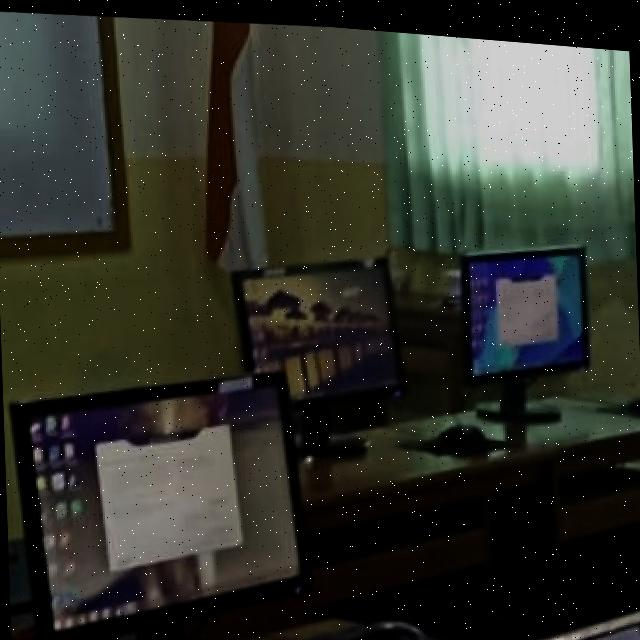onscreen: (13, 369, 301, 629), (243, 252, 400, 394), (462, 237, 588, 371)
